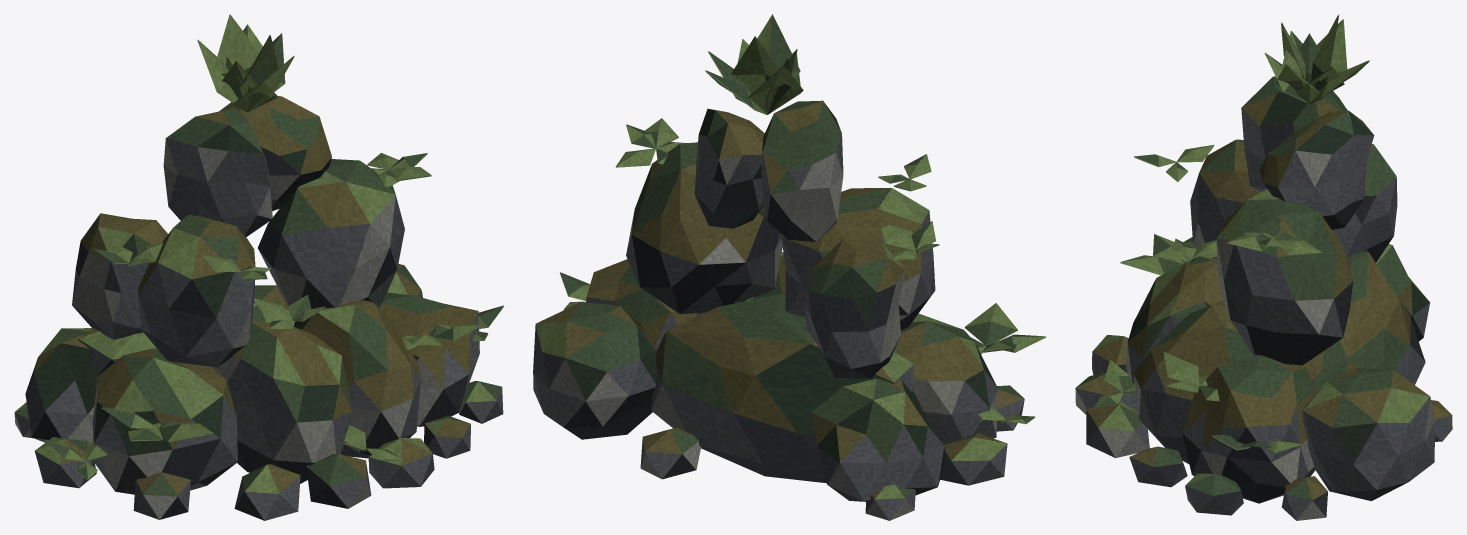
File: rock_mossy_pile.glb
The picture shows the model from 3 angles, left to right: view 1: azimuth 30°, elevation 25°; view 2: azimuth 150°, elevation 25°; view 3: azimuth 270°, elevation 25°; orthographic projection. The views are drawn at different scales.
Visible parts, largest first — view 1: rock_mossy_pile; view 2: rock_mossy_pile; view 3: rock_mossy_pile.
Boxes of the visible parts, left/top/right/bottom form: rock_mossy_pile: left=14, top=14, right=503, bottom=520; rock_mossy_pile: left=533, top=14, right=1046, bottom=520; rock_mossy_pile: left=1075, top=14, right=1452, bottom=520.
Size of the model in its own units: 3.46 by 2.94 by 2.47.
Materials: 1 (1 with a texture image).
